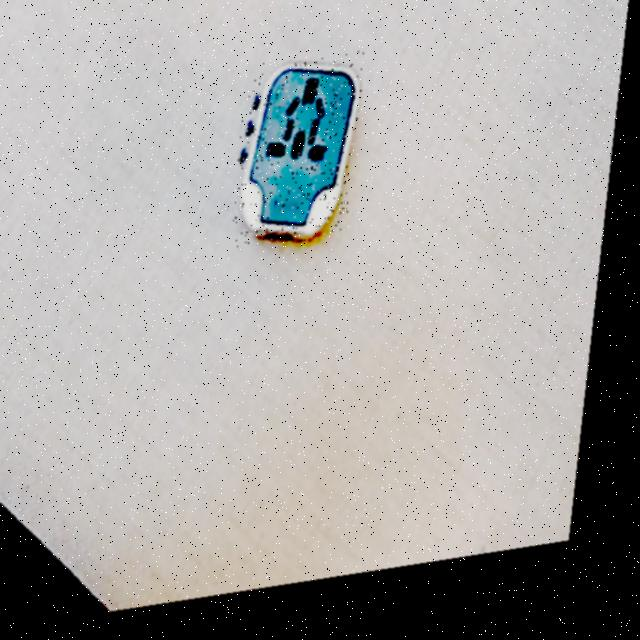adapter: (235, 60, 369, 259)
